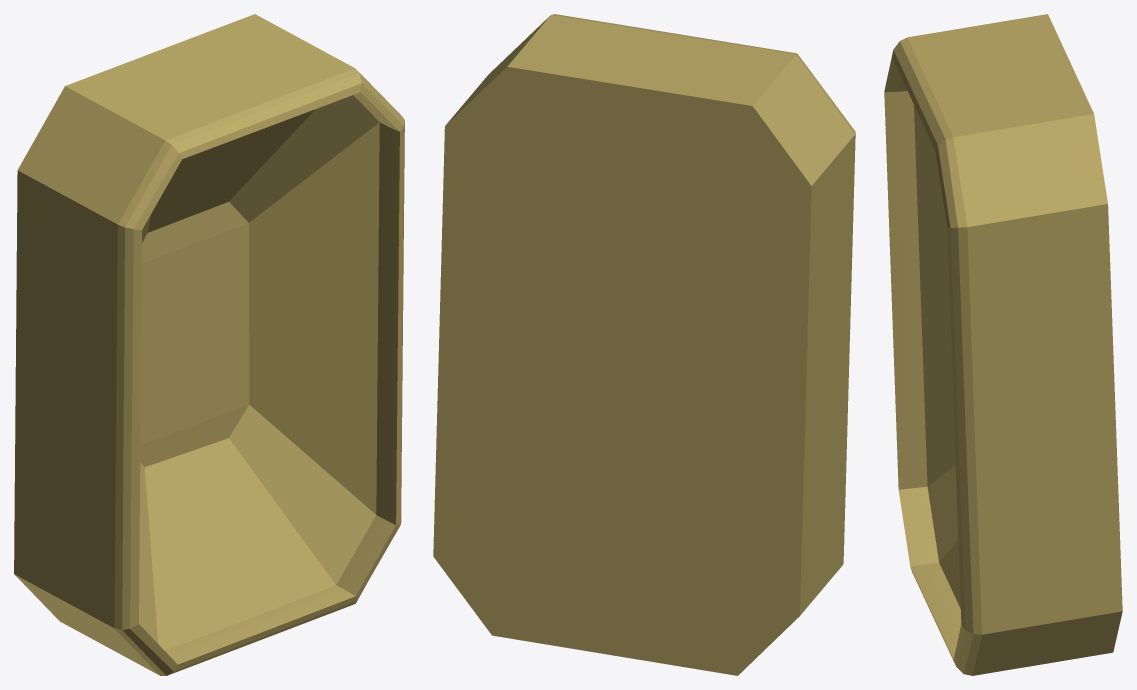
File: TR1_8shapes_Emerald_Classic_Metal.001 3.glb
3 views of the same model, side by side, from view 1: azimuth 30°, elevation 25°; view 2: azimuth 150°, elevation 25°; view 3: azimuth 270°, elevation 25° (orthographic). The views are drawn at different scales.
Parts seen in each view (by area): view 1: TR1_8shapes_Emerald_Classic_Metal.001; view 2: TR1_8shapes_Emerald_Classic_Metal.001; view 3: TR1_8shapes_Emerald_Classic_Metal.001.
Part boxes in pixels (bbox=[...]): TR1_8shapes_Emerald_Classic_Metal.001: bbox=[14, 14, 404, 675]; TR1_8shapes_Emerald_Classic_Metal.001: bbox=[433, 14, 855, 675]; TR1_8shapes_Emerald_Classic_Metal.001: bbox=[884, 14, 1122, 675].
Size of the model in its own units: 0.4917 by 0.743 by 0.2922.
